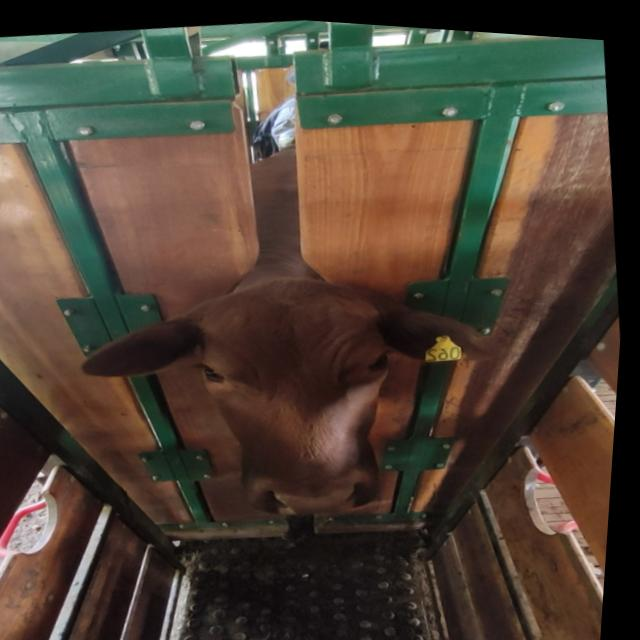cowFace: (181, 261, 416, 529)
